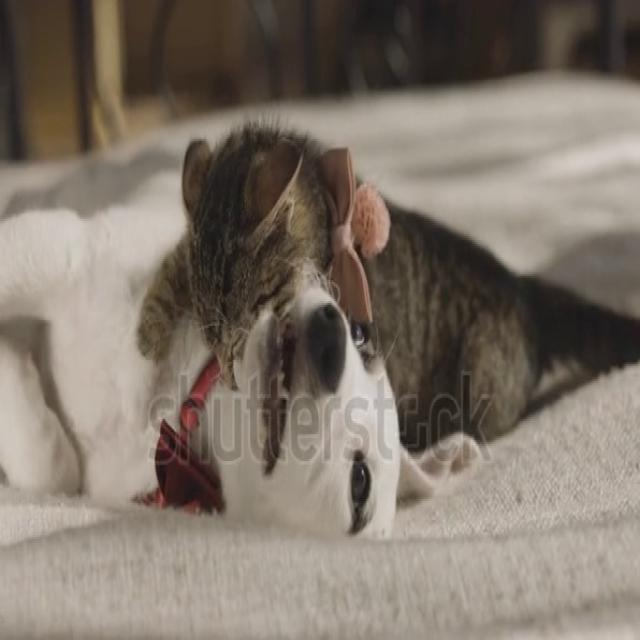normal_animals: (0, 110, 639, 545)
